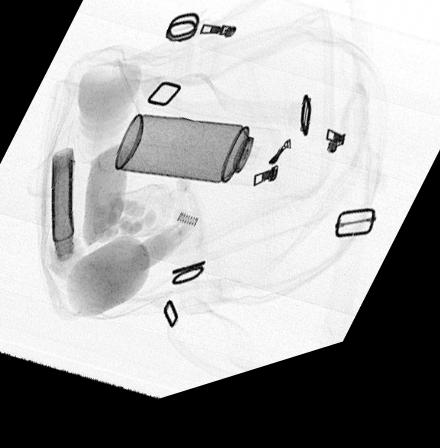Sprayer: (112, 121, 281, 204)
